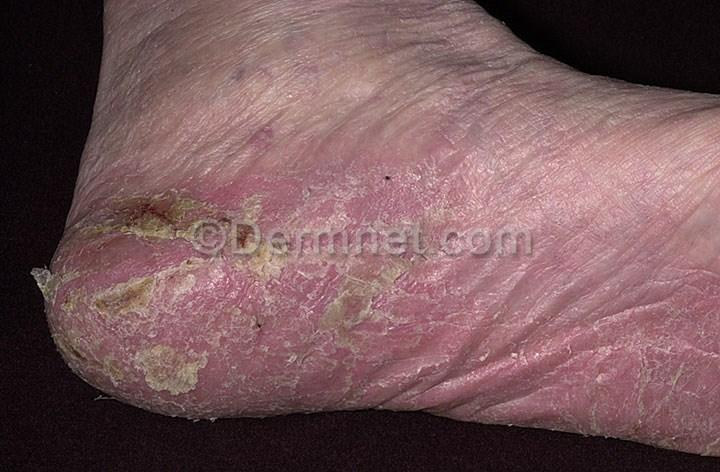Eczema: (62, 150, 364, 391), (364, 129, 544, 332), (536, 116, 720, 278), (534, 270, 686, 425), (358, 298, 532, 418), (686, 273, 720, 452)
